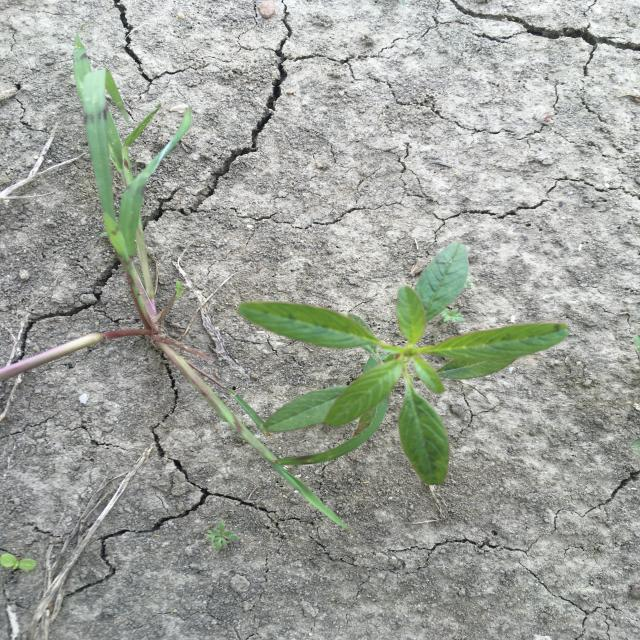Ragweed: (202, 522, 241, 551)
Waterhemp: (234, 242, 573, 488)
